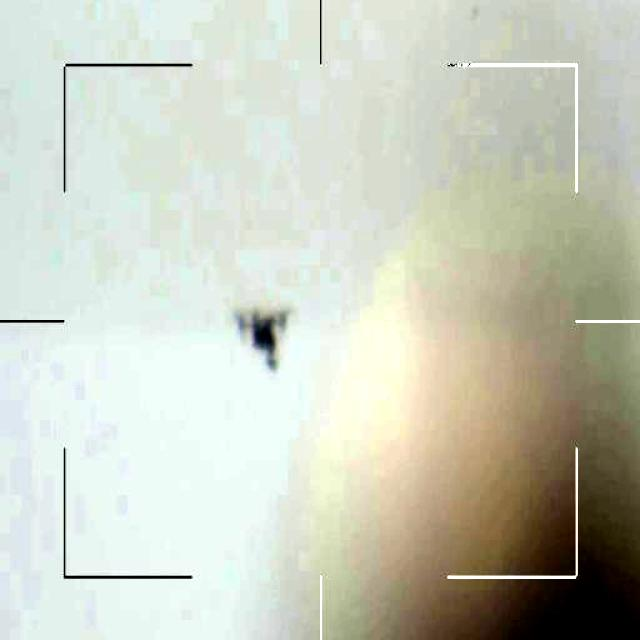bird: (232, 298, 294, 368)
